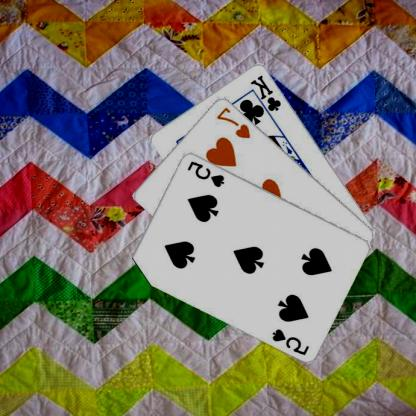5S: (186, 158, 228, 188), (271, 326, 312, 356)
7H: (215, 104, 254, 140)
KC: (250, 72, 284, 120)
